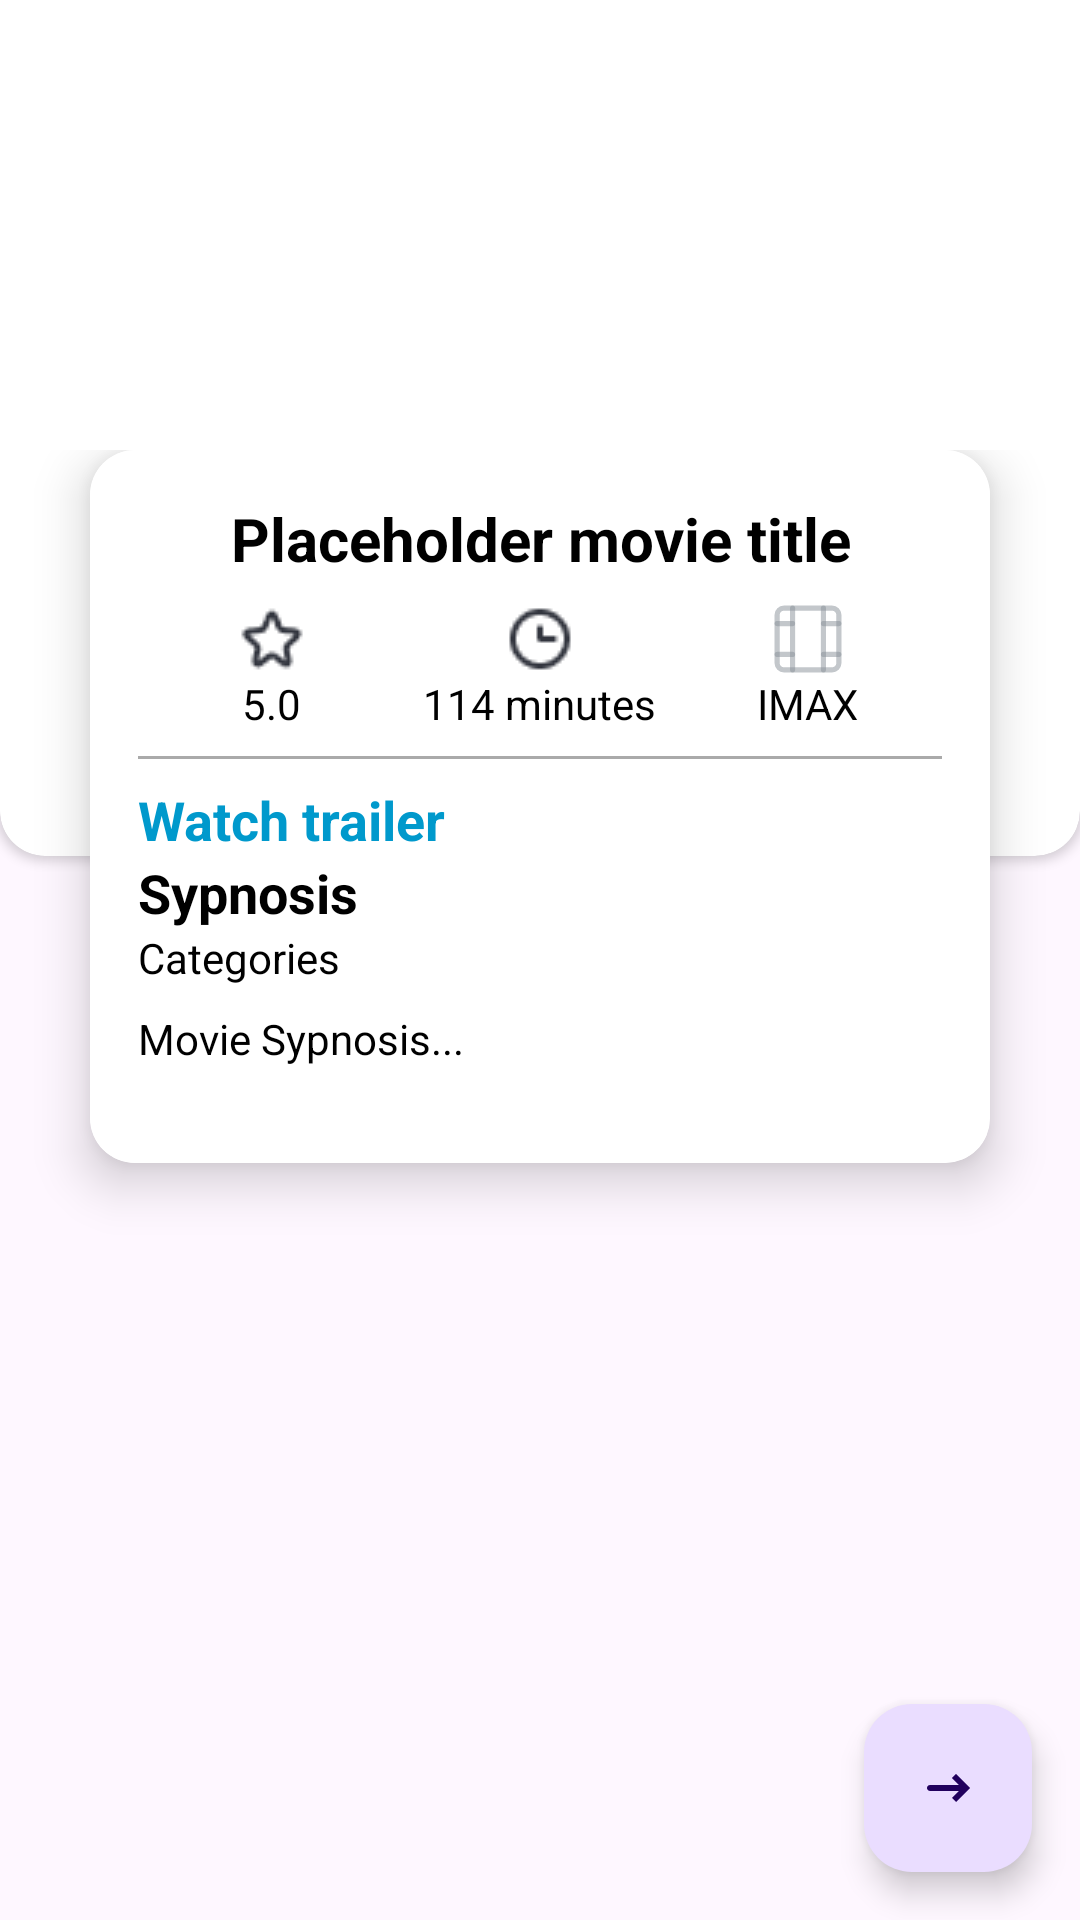

Icons on this 1080*1920 Android screen, each with its box as (x1, y1, x2, y2):
clock: (509, 608, 571, 670)
movie type: (774, 605, 842, 673)
star: (241, 609, 303, 670)
submit: (864, 1704, 1032, 1872)
